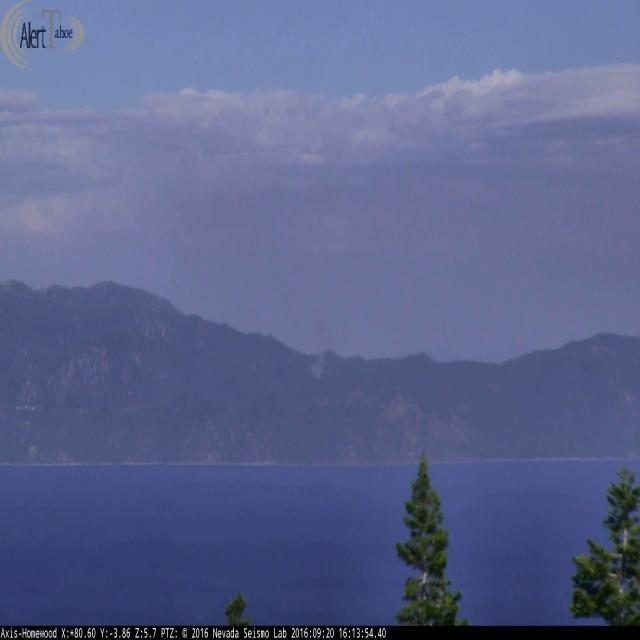smoke: (307, 334, 334, 378)
